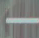No entry: (2, 1, 38, 36)
